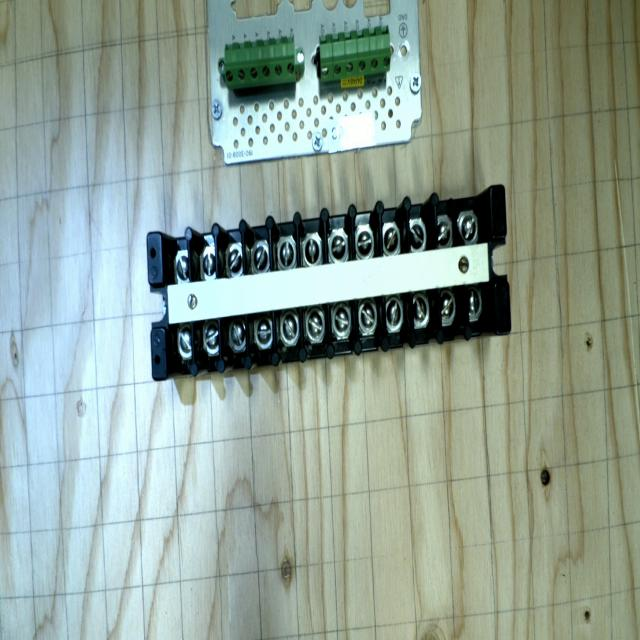Flathead_Block: (134, 186, 524, 380)
Terminal_1: (314, 25, 395, 82), (222, 37, 297, 83)
